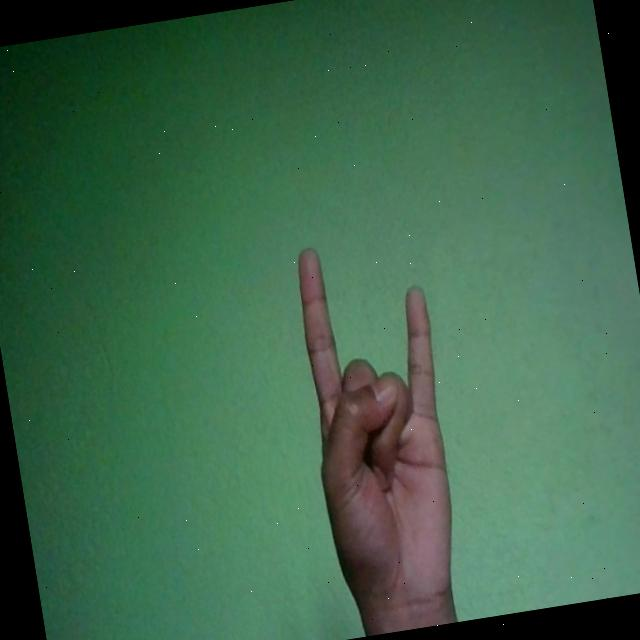open Plam: (286, 231, 476, 634)
